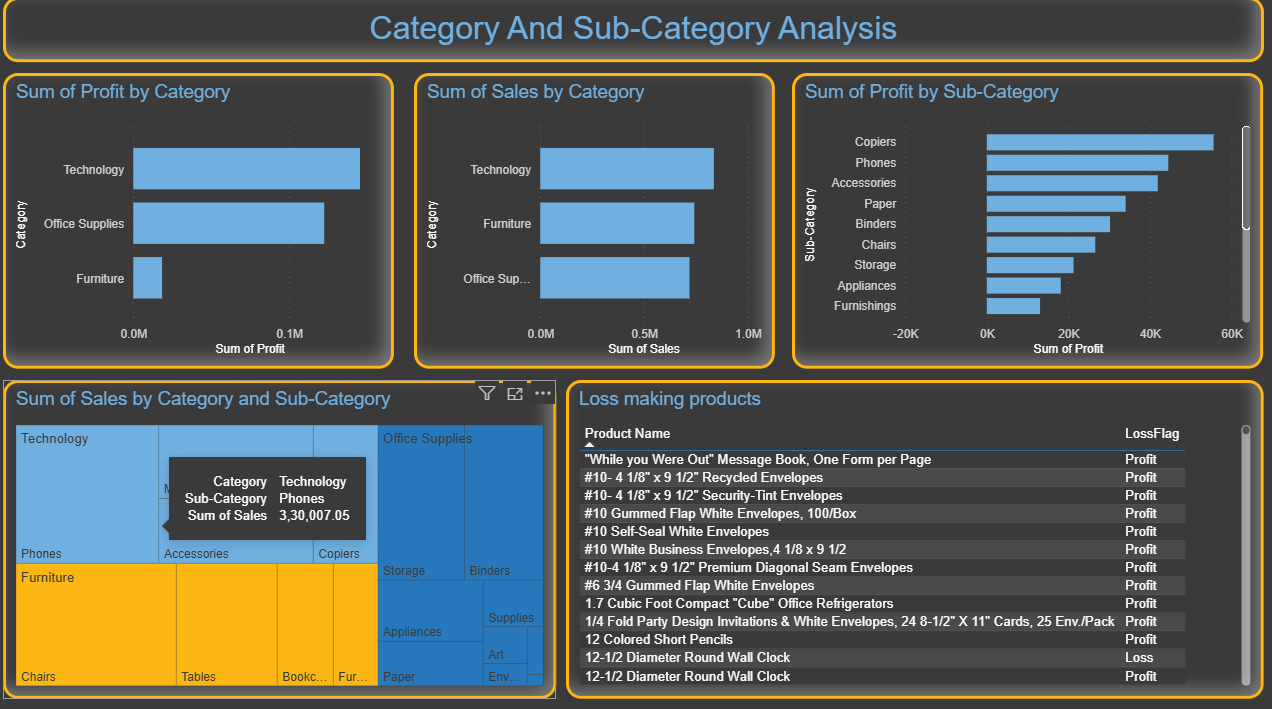

The page's visual inventory and layout, read from the dashboard file:
{"tool":"powerbi","page":{"name":"Category & Sub-Category Analysis","canvas":[1280,720],"ordinal":1},"visuals":[{"type":"barChart","fields":{"Category":["Sample -- Superstore (2).Category"],"Y":["Sum(Sample -- Superstore (2).Sales)"]},"box":[424,83.6,360.1,295],"z":0},{"type":"barChart","fields":{"Category":["Sample -- Superstore (2).Category"],"Y":["Sum(Sample -- Superstore (2).Profit)"]},"box":[14,83.8,390.3,295],"z":1000},{"type":"treemap","fields":{"Details":["Sample -- Superstore (2).Sub-Category"],"Group":["Sample -- Superstore (2).Category"],"Values":["Sum(Sample -- Superstore (2).Sales)"]},"box":[13.9,390.3,551.7,318.3],"z":2000},{"type":"clusteredBarChart","fields":{"Category":["Sample -- Superstore (2).Sub-Category"],"Y":["Sum(Sample -- Superstore (2).Profit)"]},"box":[801.5,83.6,470.4,295],"z":3000},{"type":"tableEx","title":"Loss making products","fields":{"Values":["Sample -- Superstore (2).Product Name","Sample -- Superstore (2).LossFlag"]},"box":[576.1,390.3,695.8,318.3],"z":4000},{"type":"textbox","box":[13.9,8.1,1257.9,65],"z":5000}]}

Visuals, with their boxes in screenshot pixels (x1, y1, x2, y2), scaled from the page's 1280x720 canvas onto the 1272x709 screenshot:
barChart - Sample -- Superstore (2).Category x Sum(Sample -- Superstore (2).Sales): (421, 82, 779, 373)
barChart - Sample -- Superstore (2).Category x Sum(Sample -- Superstore (2).Profit): (14, 83, 402, 373)
treemap - Sample -- Superstore (2).Sub-Category x Sample -- Superstore (2).Category: (14, 384, 562, 698)
clusteredBarChart - Sample -- Superstore (2).Sub-Category x Sum(Sample -- Superstore (2).Profit): (796, 82, 1264, 373)
"Loss making products" tableEx: (572, 384, 1264, 698)
textbox: (14, 8, 1264, 72)
